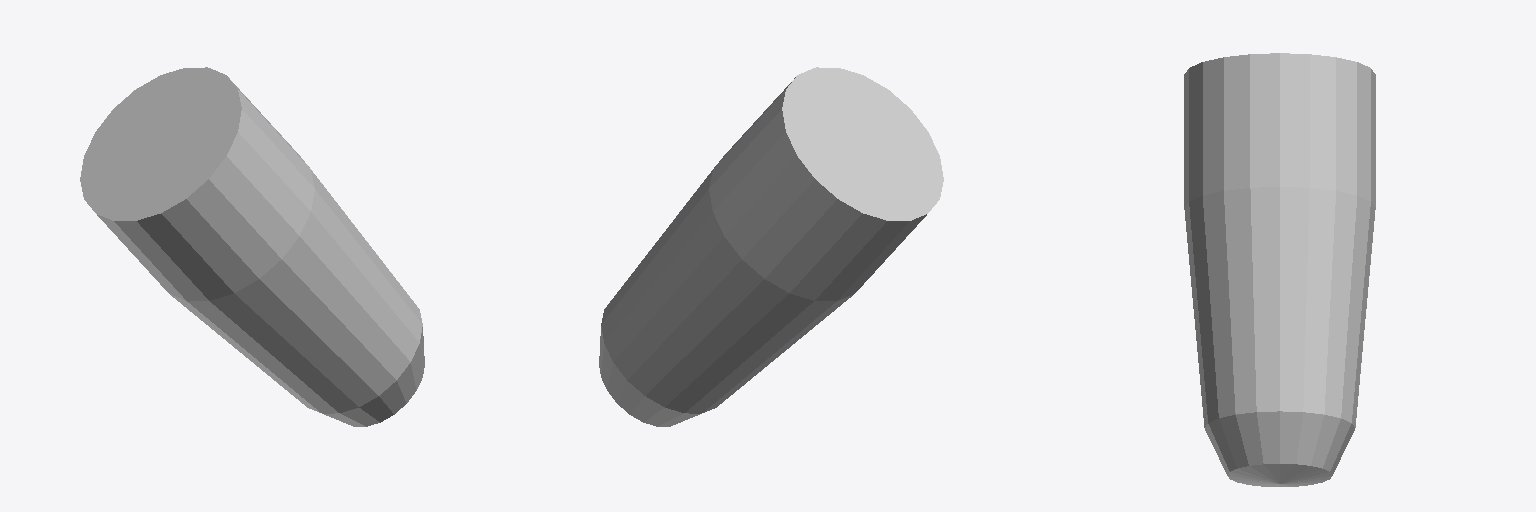
File: player_Larm.obj
3 renders of one model, left to right at view 1: azimuth 30°, elevation 25°; view 2: azimuth 150°, elevation 25°; view 3: azimuth 270°, elevation 25°, orthographic.
Parts seen in each view (by area): view 1: pCylinder3 group3; view 2: pCylinder3 group3; view 3: pCylinder3 group3.
Part boxes in pixels (x1,y1,x2,y2): pCylinder3 group3: (80, 67, 424, 426); pCylinder3 group3: (599, 67, 943, 426); pCylinder3 group3: (1184, 53, 1375, 486).
Size of the model in its own units: 1.46 by 1.63 by 0.7527.